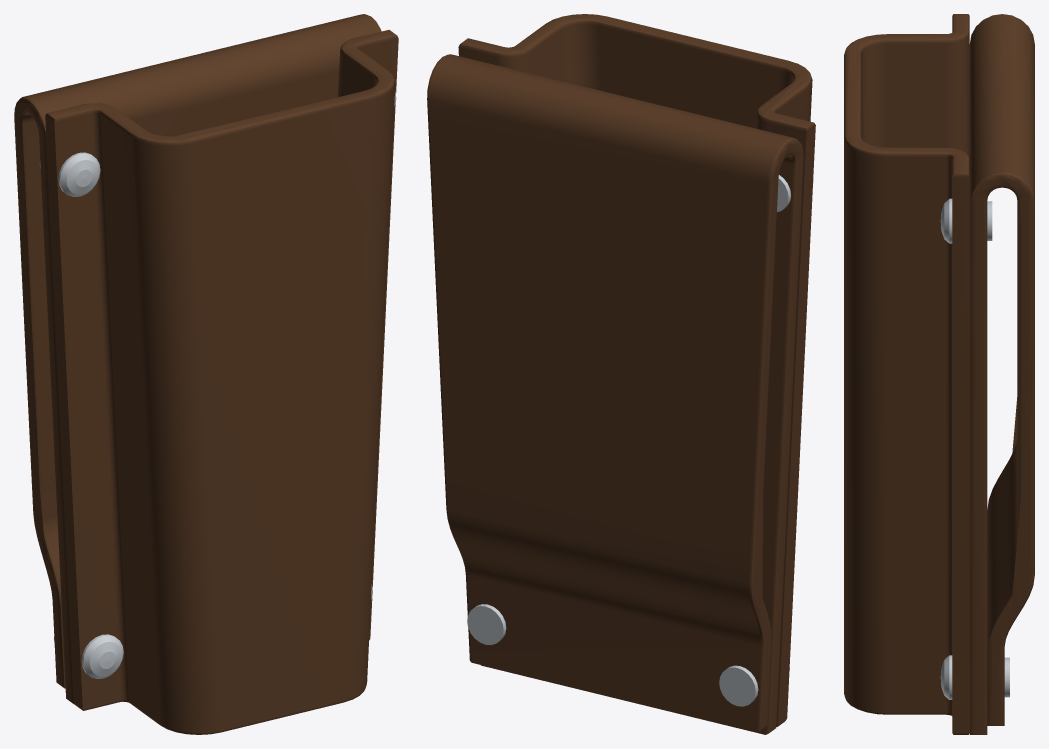
The model's file is SM_Etui_Cle_A_Molette.glb.
The picture shows the model from 3 angles, left to right: view 1: azimuth 30°, elevation 25°; view 2: azimuth 150°, elevation 25°; view 3: azimuth 270°, elevation 25°; orthographic projection. The views are drawn at different scales.
Visible parts, largest first — view 1: SM_Etui_Cle_A_Molette; view 2: SM_Etui_Cle_A_Molette; view 3: SM_Etui_Cle_A_Molette.
Part boxes in pixels (x1=…): SM_Etui_Cle_A_Molette: x1=14, y1=14, x2=398, y2=734; SM_Etui_Cle_A_Molette: x1=427, y1=14, x2=815, y2=734; SM_Etui_Cle_A_Molette: x1=844, y1=14, x2=1034, y2=734.
Size of the model in its own units: 0.0761 by 0.127 by 0.0381.
